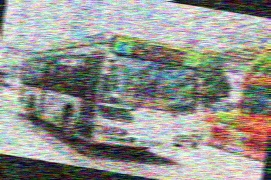bus: (11, 17, 209, 161), (228, 70, 271, 159)
